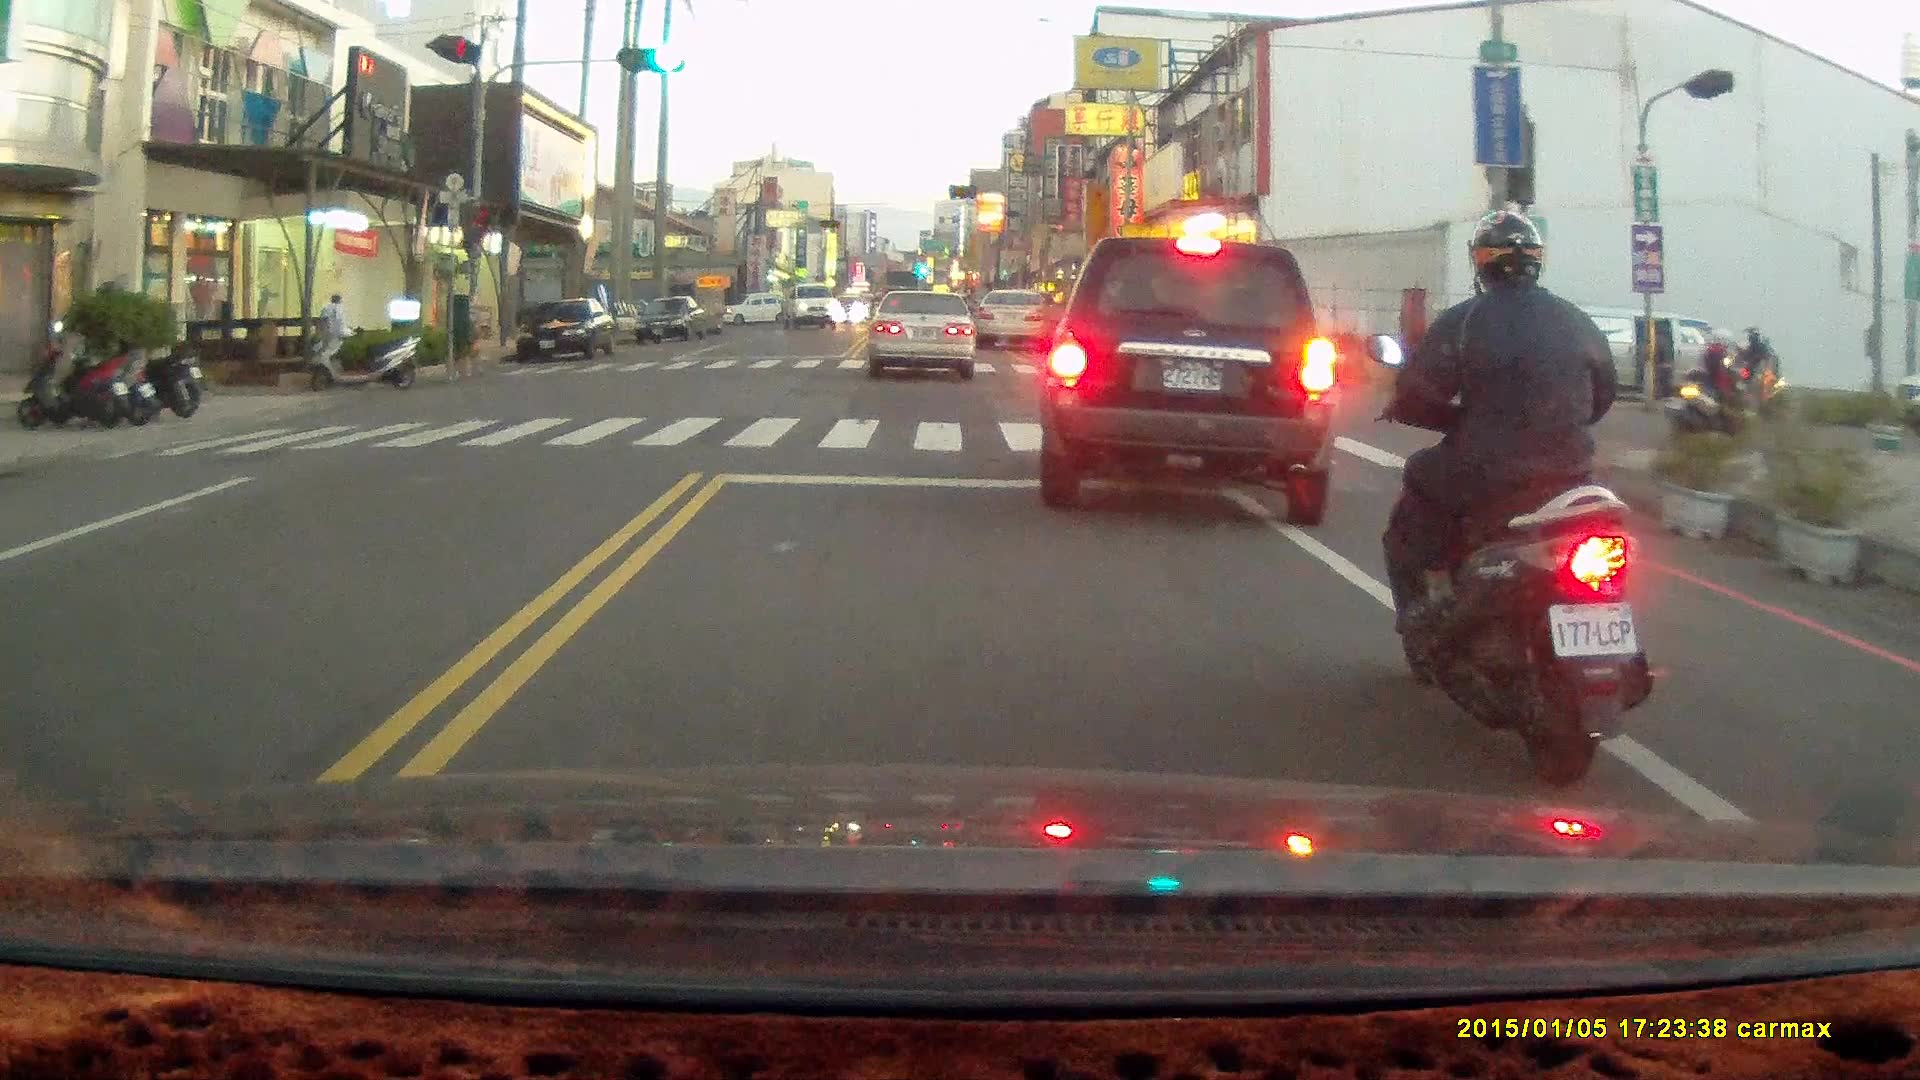pedestrian: (319, 291, 351, 357), (1649, 321, 1672, 398)
rider: (1360, 210, 1656, 785), (1666, 325, 1758, 453), (1702, 322, 1781, 423)
vehicle: (1038, 235, 1338, 528), (867, 294, 980, 389), (516, 299, 612, 365), (973, 285, 1057, 355), (633, 298, 708, 347), (781, 282, 840, 334)
